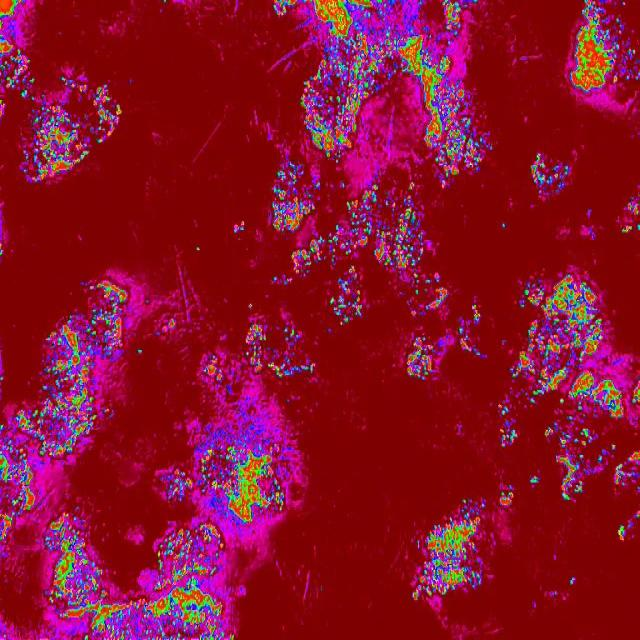fire: (544, 275, 624, 417), (305, 0, 431, 78), (156, 517, 235, 640), (407, 498, 487, 607), (38, 313, 96, 462), (198, 428, 288, 521), (419, 76, 490, 188), (45, 512, 110, 617), (569, 0, 640, 94), (344, 183, 423, 267), (302, 78, 376, 162), (23, 101, 89, 183), (0, 402, 38, 542), (266, 164, 326, 234), (544, 422, 593, 502), (95, 277, 129, 363), (269, 320, 315, 380), (512, 320, 542, 406), (0, 35, 38, 99), (326, 266, 364, 326), (529, 154, 570, 198), (110, 599, 154, 640), (90, 88, 122, 142), (407, 270, 447, 310), (288, 234, 325, 277), (405, 330, 436, 381), (240, 322, 266, 372), (440, 0, 468, 42), (452, 326, 486, 360), (200, 352, 230, 387), (515, 278, 544, 314), (614, 451, 640, 491), (164, 467, 192, 503), (616, 512, 640, 544), (326, 224, 344, 265), (0, 0, 22, 30), (498, 427, 522, 451), (88, 615, 108, 640), (271, 0, 298, 18), (60, 76, 87, 94), (430, 55, 453, 75), (158, 313, 176, 337), (624, 194, 640, 218), (467, 300, 483, 324), (497, 490, 514, 510), (232, 220, 248, 236), (632, 375, 640, 407), (498, 405, 516, 419), (80, 280, 96, 294), (596, 449, 606, 465), (530, 473, 540, 488), (568, 575, 578, 589), (621, 223, 633, 234), (103, 405, 112, 419), (608, 440, 618, 452), (282, 276, 294, 286), (0, 244, 6, 260), (134, 348, 144, 356), (500, 221, 508, 230), (246, 302, 255, 310), (193, 246, 200, 254), (272, 274, 280, 280), (160, 0, 168, 6), (636, 221, 640, 230)
